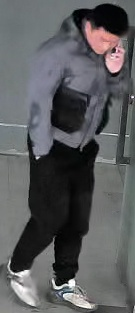phone: (75, 4, 134, 109)
